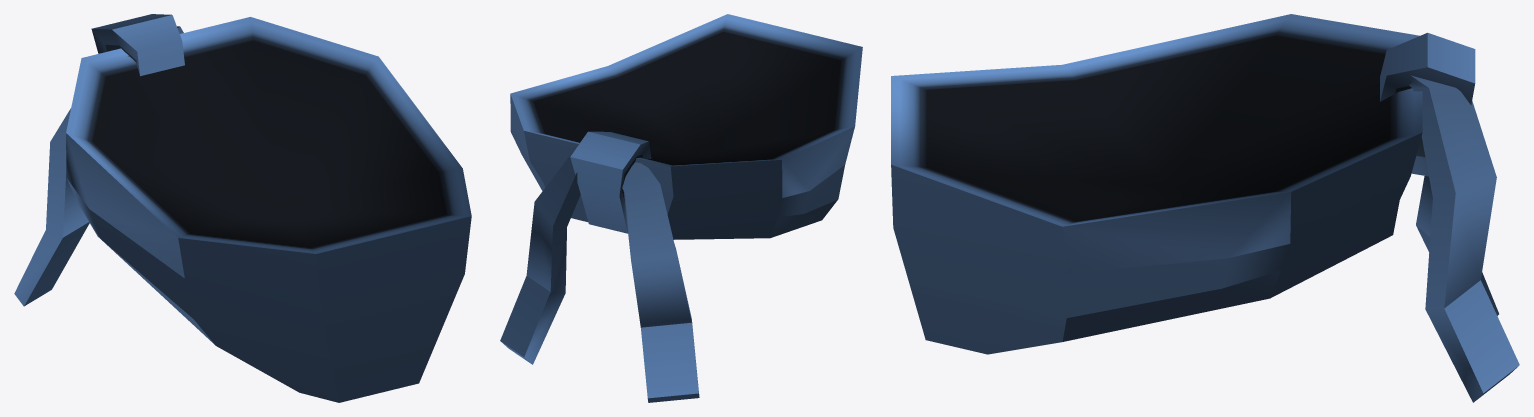
File: FaceMask_F.glb
3 renders of one model, left to right at view 1: azimuth 30°, elevation 25°; view 2: azimuth 150°, elevation 25°; view 3: azimuth 270°, elevation 25°, orthographic. The views are drawn at different scales.
Parts seen in each view (by area): view 1: FaceMask_F; view 2: FaceMask_F; view 3: FaceMask_F.
Part boxes in pixels (x1=…): FaceMask_F: x1=14, y1=14, x2=471, y2=402; FaceMask_F: x1=500, y1=14, x2=862, y2=402; FaceMask_F: x1=891, y1=14, x2=1519, y2=402.
Size of the model in its own units: 0.202 by 0.1624 by 0.2936.
1 material, 1 textured.
